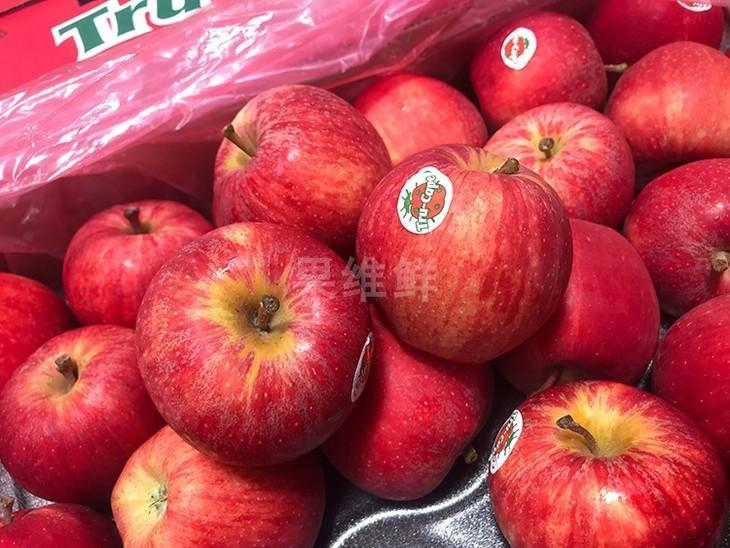apple: (142, 223, 374, 463), (356, 143, 570, 362), (483, 379, 729, 547), (317, 296, 493, 501), (212, 84, 401, 259), (1, 326, 166, 509), (109, 424, 330, 546), (503, 217, 659, 388), (60, 199, 214, 331), (483, 101, 638, 228), (624, 155, 730, 317), (607, 40, 730, 176), (467, 12, 611, 126), (355, 71, 489, 167), (585, 1, 729, 65), (1, 271, 73, 388)
